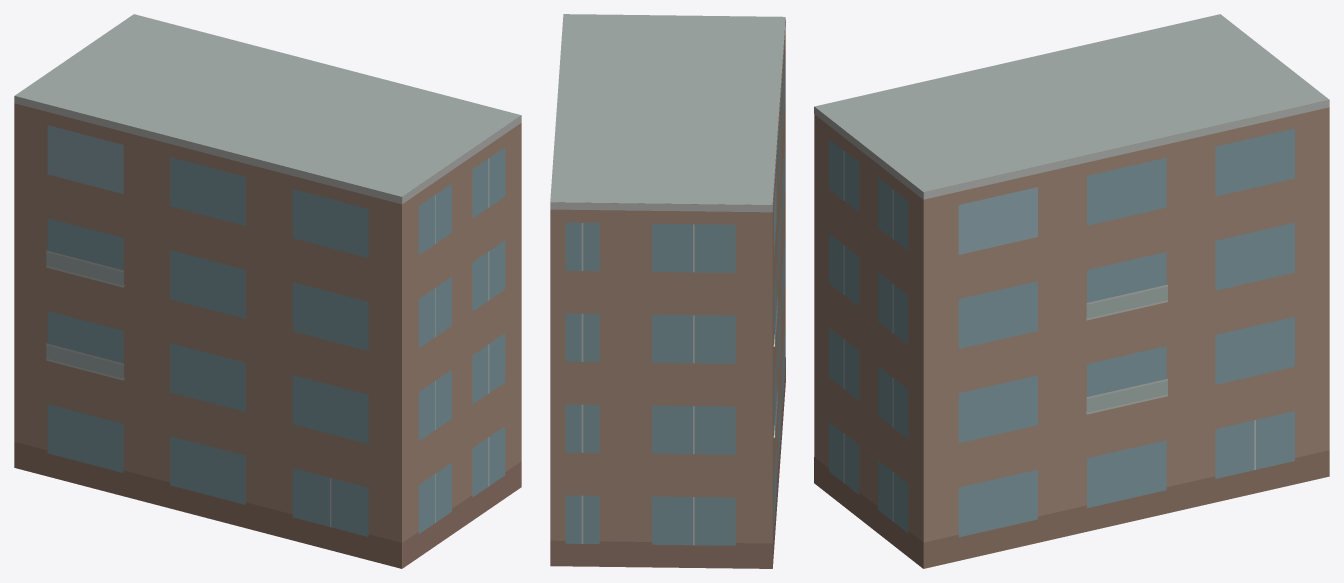
Rendered from residential-0d935891-7658-4229-8bc2-c0c0f8c46786.glb.
3 views of the same model, side by side, from view 1: azimuth 30°, elevation 25°; view 2: azimuth 150°, elevation 25°; view 3: azimuth 270°, elevation 25° (orthographic). The views are drawn at different scales.
Parts seen in each view (by area): view 1: residential-0d935891-7658-4229-8bc2-c0c0f8c46786.tmp; view 2: residential-0d935891-7658-4229-8bc2-c0c0f8c46786.tmp; view 3: residential-0d935891-7658-4229-8bc2-c0c0f8c46786.tmp.
Part boxes in pixels (x1,y1,x2,y2): residential-0d935891-7658-4229-8bc2-c0c0f8c46786.tmp: (14,14,521,568); residential-0d935891-7658-4229-8bc2-c0c0f8c46786.tmp: (550,14,785,568); residential-0d935891-7658-4229-8bc2-c0c0f8c46786.tmp: (814,14,1329,568).
Size of the model in its own units: 12.39 by 12.2 by 15.14.
